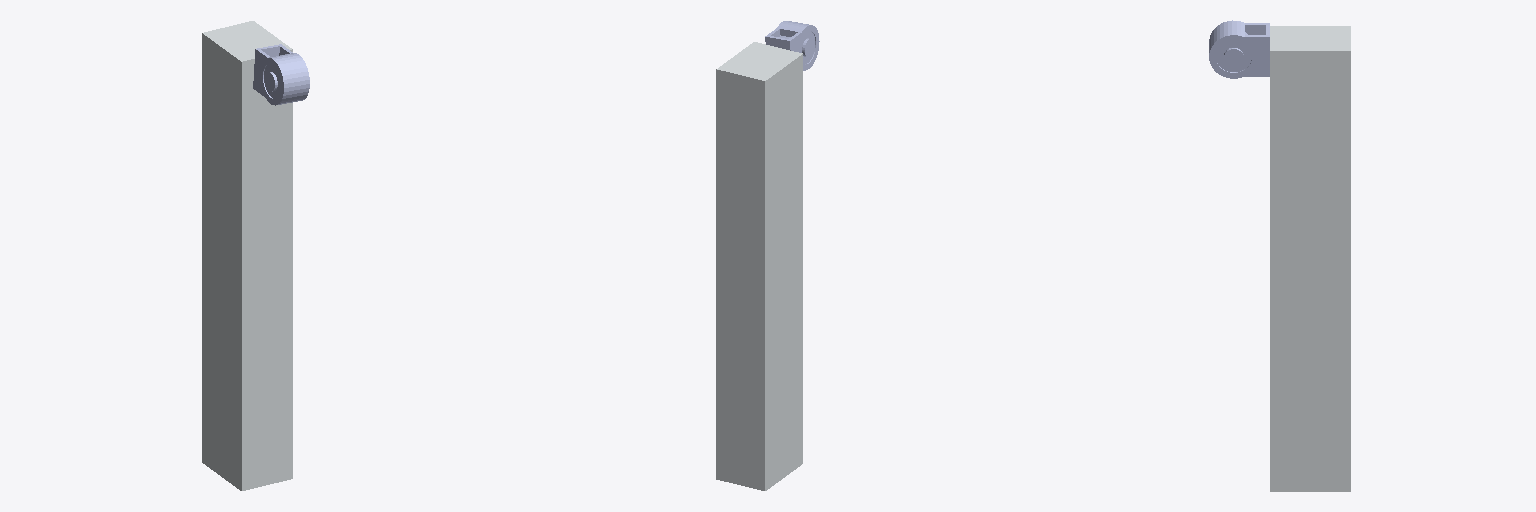
robot.urdf — test_motor:
<robot
  name="test_motor">
  <link
    name="base_link">
    <inertial>
      <origin
        xyz="0.075 -0.100043179942263 0.600223750609909"
        rpy="0 0 0" />
      <mass
        value="97.2381703507411" />
      <inertia
        ixx="12.001"
        ixy="0"
        ixz="0"
        iyy="0.50672"
        iyz="0.0023933"
        izz="11.859" />
    </inertial>
    <visual>
      <origin
        xyz="0 0 0"
        rpy="0 0 0" />
      <geometry>
        <mesh
          filename="package://test_motor/meshes/base_link.STL" />
      </geometry>
      <material
        name="">
        <color
          rgba="0.898039215686275 0.917647058823529 0.929411764705882 1" />
      </material>
    </visual>
    <collision>
      <origin
        xyz="0 0 0"
        rpy="0 0 0" />
      <geometry>
        <mesh
          filename="package://test_motor/meshes/base_link.STL" />
      </geometry>
    </collision>
  </link>
  <link
    name="Link_2">
    <inertial>
      <origin
        xyz="0 2.22044604925031E-16 0.0828639343196872"
        rpy="0 0 0" />
      <mass
        value="2.5152856908757" />
      <inertia
        ixx="0.031093"
        ixy="0"
        ixz="0"
        iyy="0.022389"
        iyz="0.011463"
        izz="0.011462" />
    </inertial>
    <visual>
      <origin
        xyz="0 0 0"
        rpy="0 0 0" />
      <geometry>
        <mesh
          filename="package://test_motor/meshes/Link_2.STL" />
      </geometry>
      <material
        name="">
        <color
          rgba="0.792156862745098 0.819607843137255 0.933333333333333 1" />
      </material>
    </visual>
    <collision>
      <origin
        xyz="0 0 0"
        rpy="0 0 0" />
      <geometry>
        <mesh
          filename="package://test_motor/meshes/Link_2.STL" />
      </geometry>
    </collision>
  </link>
  <joint
    name="Joint_1"
    type="continuous">
    <origin
      xyz="0.0750000000000002 -0.2 1.17"
      rpy="-1.5707963267949 -0.0608144257926208 -3.14159265358979" />
    <parent
      link="base_link" />
    <child
      link="Link_2" />
    <axis
      xyz="0 0 1" />
    <dynamics friction="0.2"/>
  </joint>
  
  <gazebo reference="base_link">
    <selfCollide>true</selfCollide>
  </gazebo>
  <gazebo reference="Link_2">
    <selfCollide>true</selfCollide>
  </gazebo>
  
  <transmission name="tran1">
    <type>transmission_interface/SimpleTransmission</type>
    <joint name="Joint_1">
      <hardwareInterface>hardware_interface/EffortJointInterface</hardwareInterface>
    </joint>
    <actuator name="motor1">
      <hardwareInterface>hardware_interface/EffortJointInterface</hardwareInterface>
    </actuator>
  </transmission>
  
  <gazebo>
    <plugin name="gazebo_ros_control" filename="libgazebo_ros_control.so">
      <robotNamespace>/test_motor</robotNamespace>
      <robotSimType>gazebo_ros_control/DefaultRobotHWSim</robotSimType>
      <legacyModeNS>true</legacyModeNS>
    </plugin>
  </gazebo>
</robot>

--- What the picture shows (computed from the rendered views, not written in the file) ---
3 views of the same robot in one strip: view 1: azimuth 30°, elevation 25°; view 2: azimuth 150°, elevation 25°; view 3: azimuth 270°, elevation 25° (orthographic).
Robot: test_motor — 2 links, 1 joints (1 continuous); root link base_link; default pose: all joints at 0.
Visible links, largest first — view 1: base_link, Link_2; view 2: base_link, Link_2; view 3: base_link, Link_2.
Link boxes in pixels (x1,y1,x2,y2): base_link: (202,21,292,490); Link_2: (253,44,309,105); base_link: (716,42,802,490); Link_2: (765,21,819,70); base_link: (1270,26,1350,491); Link_2: (1209,20,1269,78).
Bounding box of the posed robot: 0.15 × 0.3503 × 1.23 m (x, y, z).
Meshes: 2 distinct files referenced, 2 mesh visuals loaded (2 binary STL).